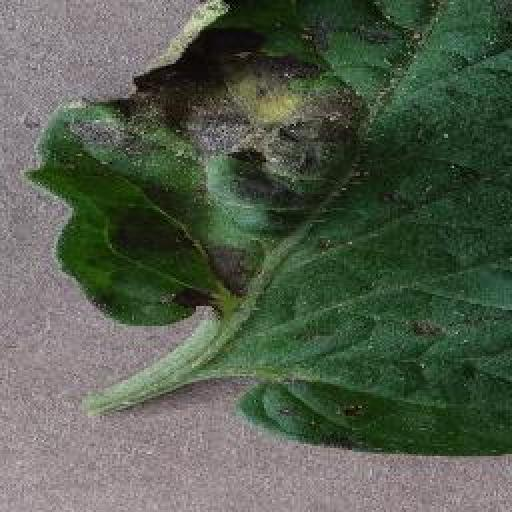Early Blight: (26, 0, 512, 455)
